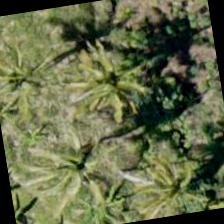Kelapa_Sawit: (75, 19, 178, 122), (23, 104, 126, 207), (63, 34, 166, 136), (116, 141, 216, 222), (0, 28, 74, 129)
